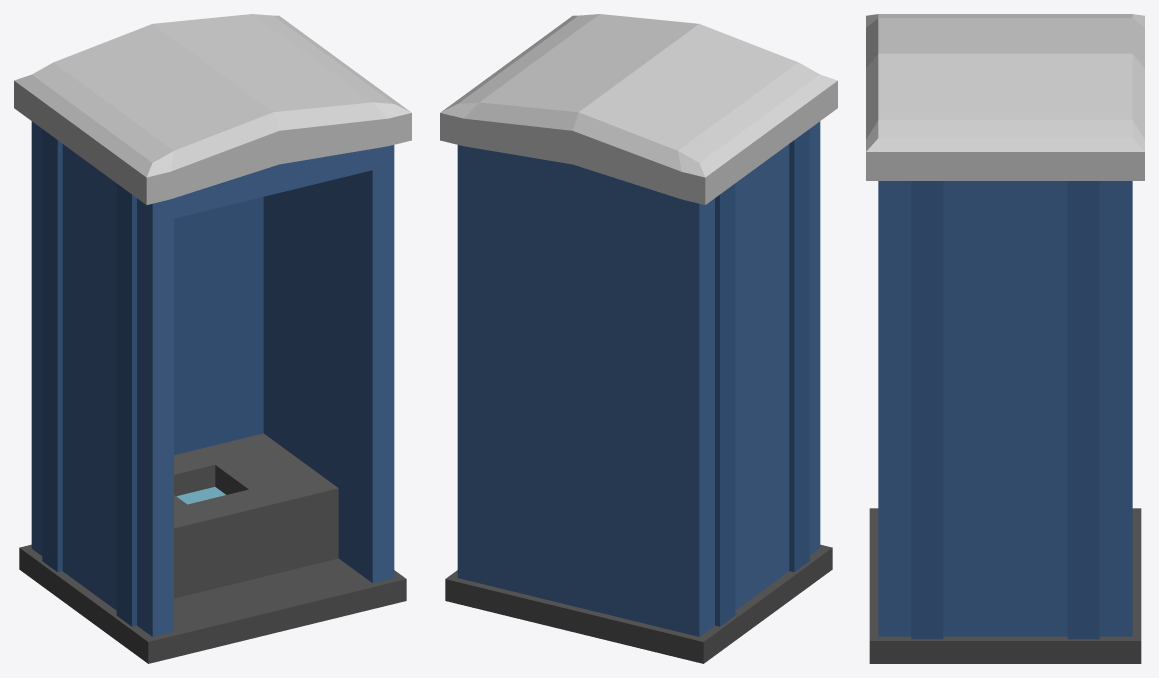
3 renders of one model, left to right at view 1: azimuth 30°, elevation 25°; view 2: azimuth 150°, elevation 25°; view 3: azimuth 270°, elevation 25°, orthographic. The views are drawn at different scales.
Parts seen in each view (by area): view 1: WC_01; view 2: WC_01; view 3: WC_01.
Boxes of the visible parts, <box> form: WC_01: <box>14,14,411,663</box>; WC_01: <box>440,14,837,663</box>; WC_01: <box>866,14,1144,663</box>.
Size of the model in its own units: 132 by 246 by 114.
